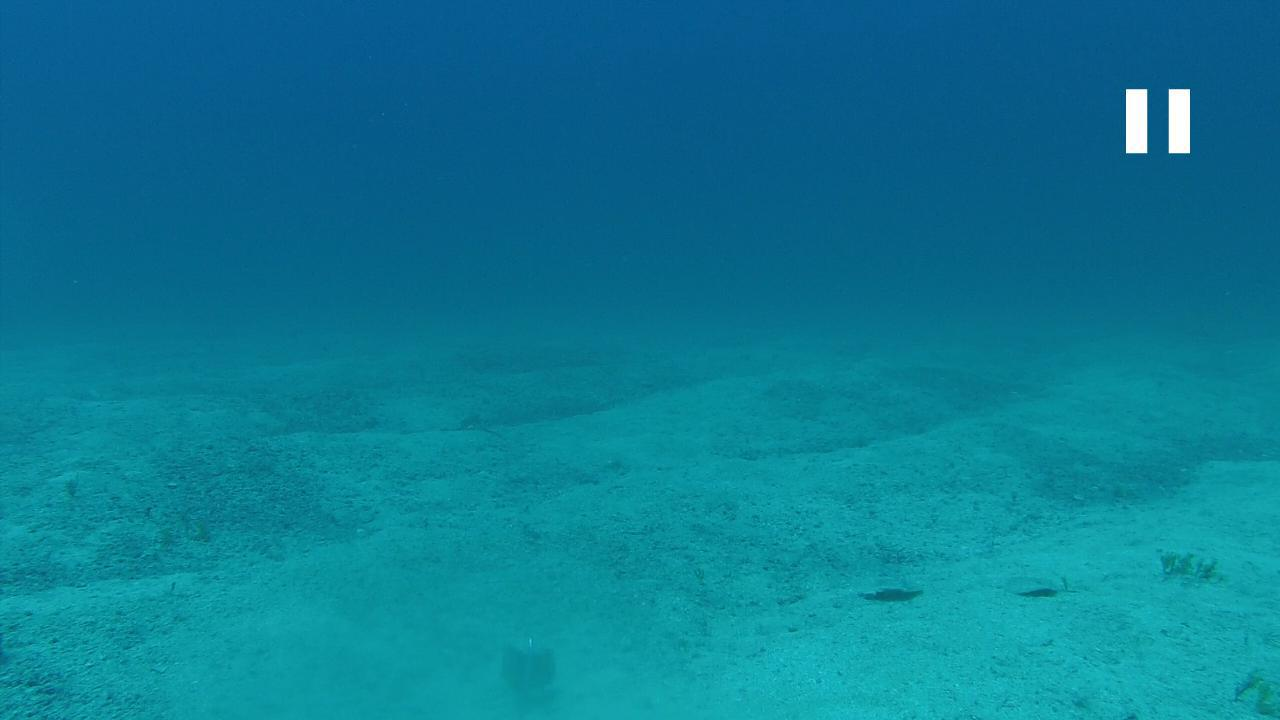bothus: (849, 568, 926, 606), (994, 574, 1059, 598)
